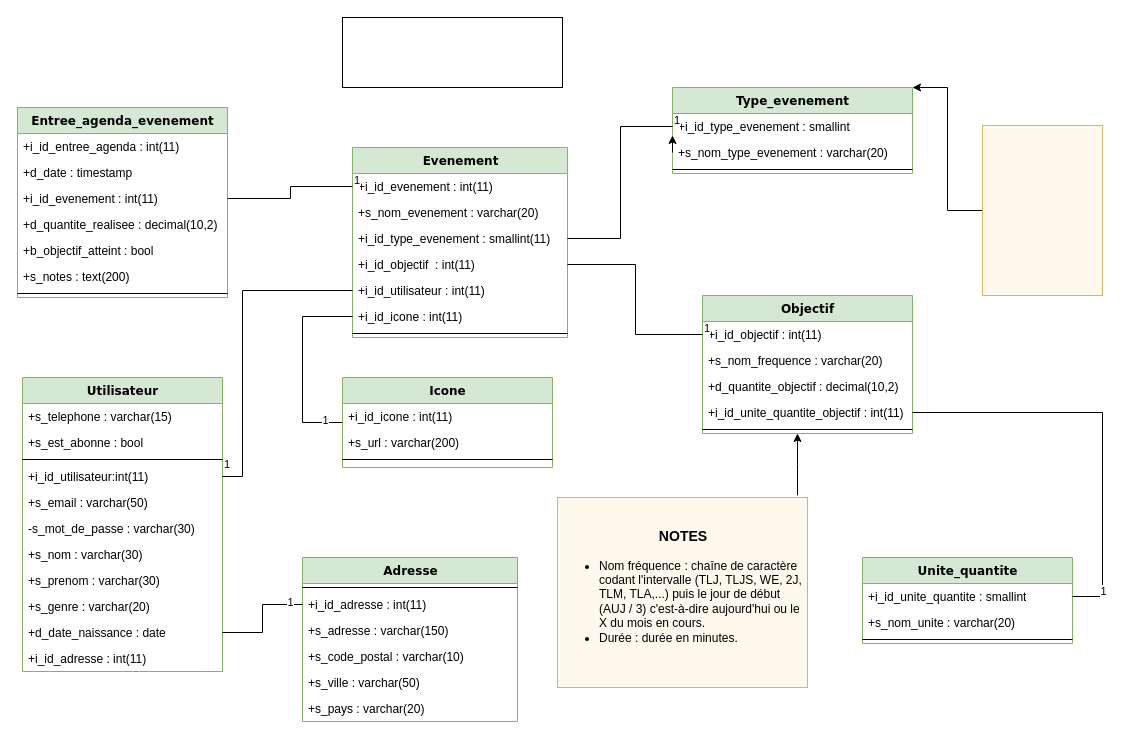
The diagram is 1123 pixels wide and 742 high, and some of its shapes have lost their labels. Each missing label, with the centre of its shape:
FRUITFUL: pixel 452 52
NOTES Habitude, tâche ou addiction.: pixel 1042 210
